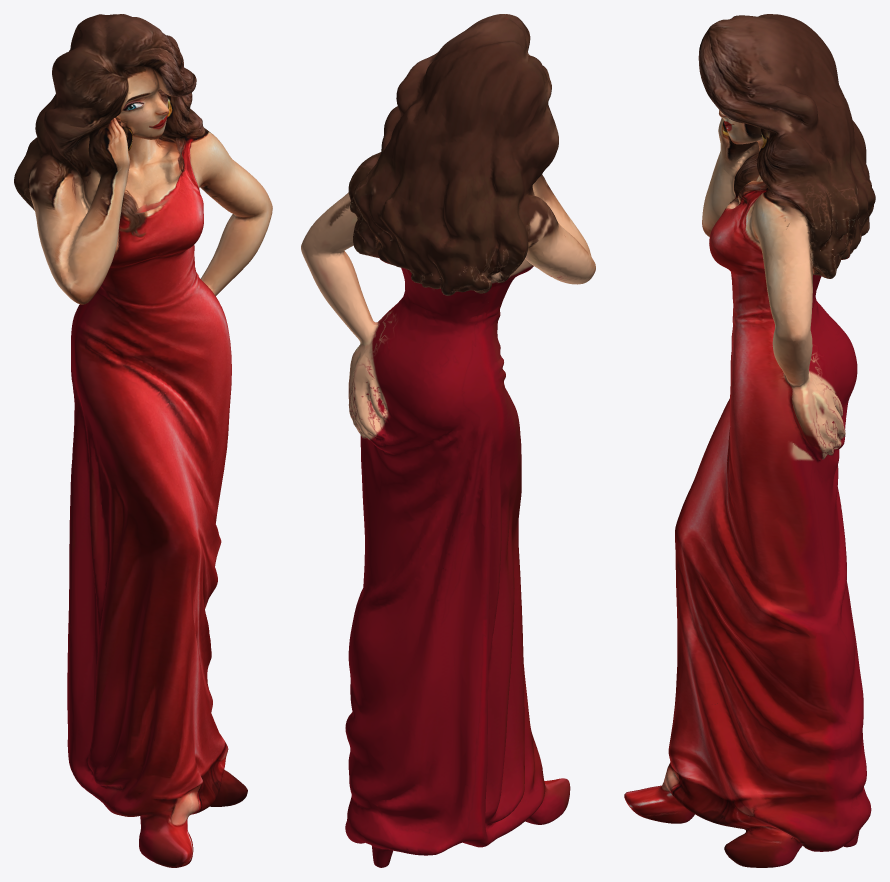
Rendered from sus-scarlett.glb.
3 renders of one model, left to right at view 1: azimuth 30°, elevation 25°; view 2: azimuth 150°, elevation 25°; view 3: azimuth 270°, elevation 25°, orthographic. The views are drawn at different scales.
Visible parts, largest first — view 1: sus-scarlett; view 2: sus-scarlett; view 3: sus-scarlett.
Part boxes in pixels (x1=…): sus-scarlett: x1=14, y1=14, x2=272, y2=867; sus-scarlett: x1=301, y1=14, x2=595, y2=867; sus-scarlett: x1=624, y1=14, x2=875, y2=867.
Bounding box in the file's own units: 0.6403 × 1.97 × 0.5635.
1 material, 1 textured.
